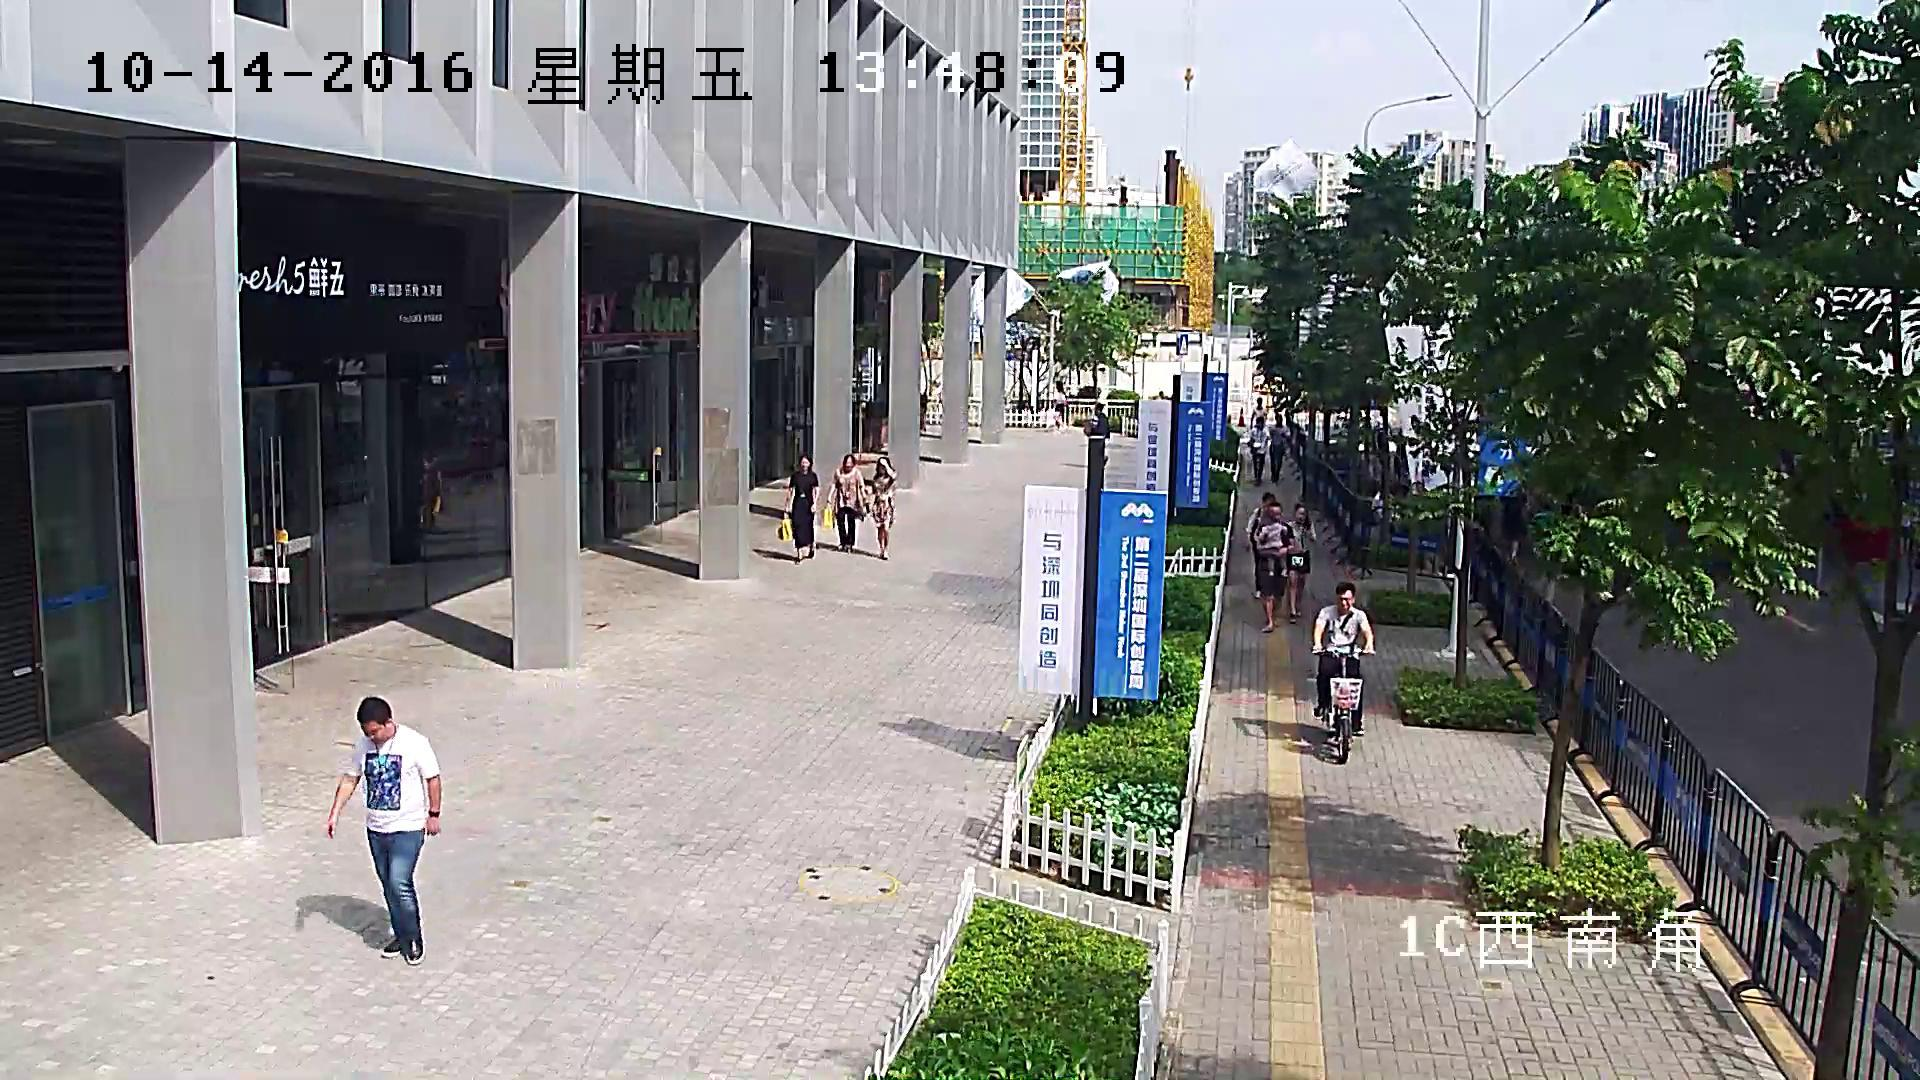person: (325, 697, 440, 965), (1309, 582, 1376, 762), (1313, 582, 1374, 734), (1250, 502, 1294, 632), (823, 454, 867, 552), (778, 454, 818, 561), (1286, 504, 1316, 622), (1247, 492, 1276, 598), (868, 456, 896, 559), (1500, 473, 1528, 562), (1255, 513, 1288, 576), (1085, 403, 1110, 468), (1247, 416, 1270, 484), (1268, 414, 1285, 482), (1053, 379, 1068, 431), (1250, 397, 1267, 432)
